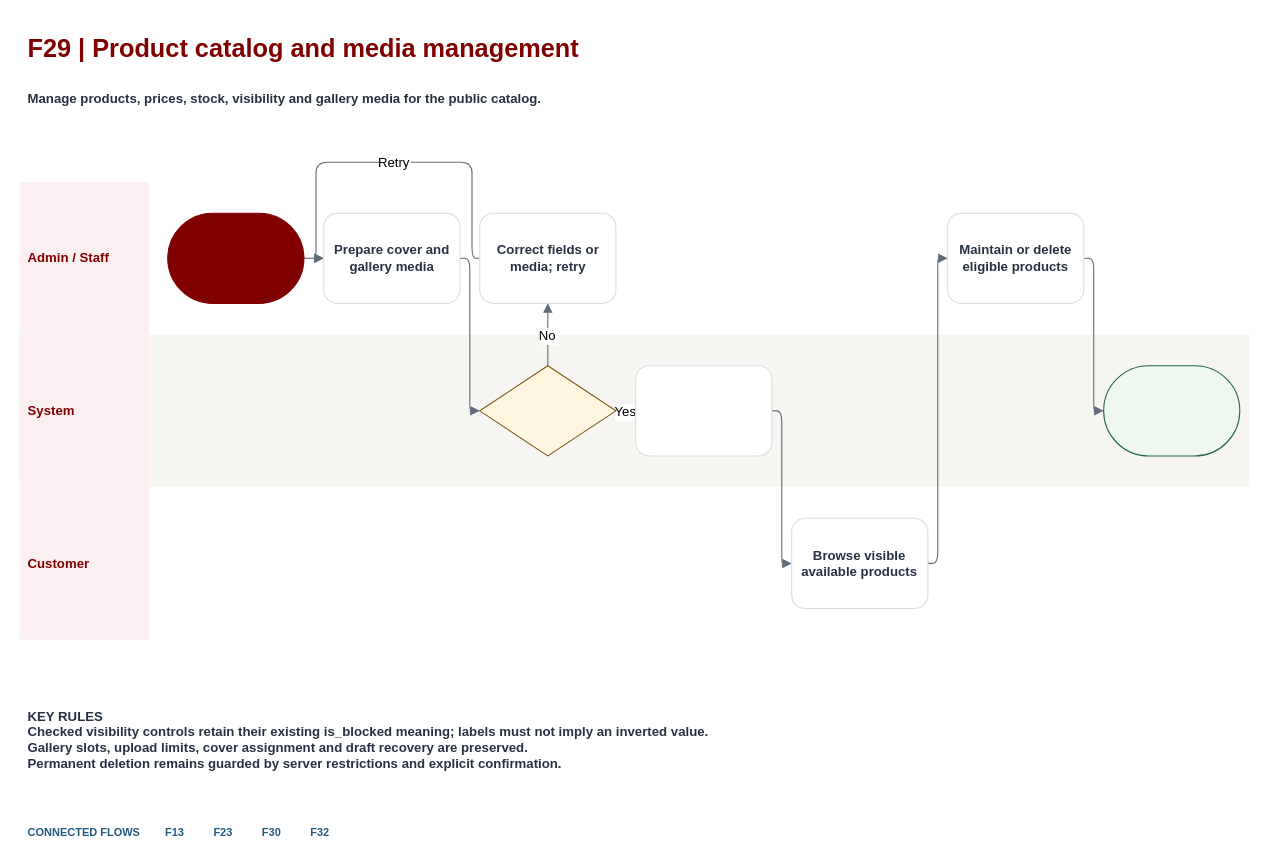
The diagram is 1268 pixels wide and 860 high, and some of its shapes have lost their labels. Here are the shapes that lost their labels. From the top down, the box of each, then its label:
(167, 212, 304, 303): Add or edit product details
(479, 365, 616, 456): Product valid?
(635, 365, 772, 456): Save product and media changes
(1103, 365, 1240, 456): Refresh catalog and reports
